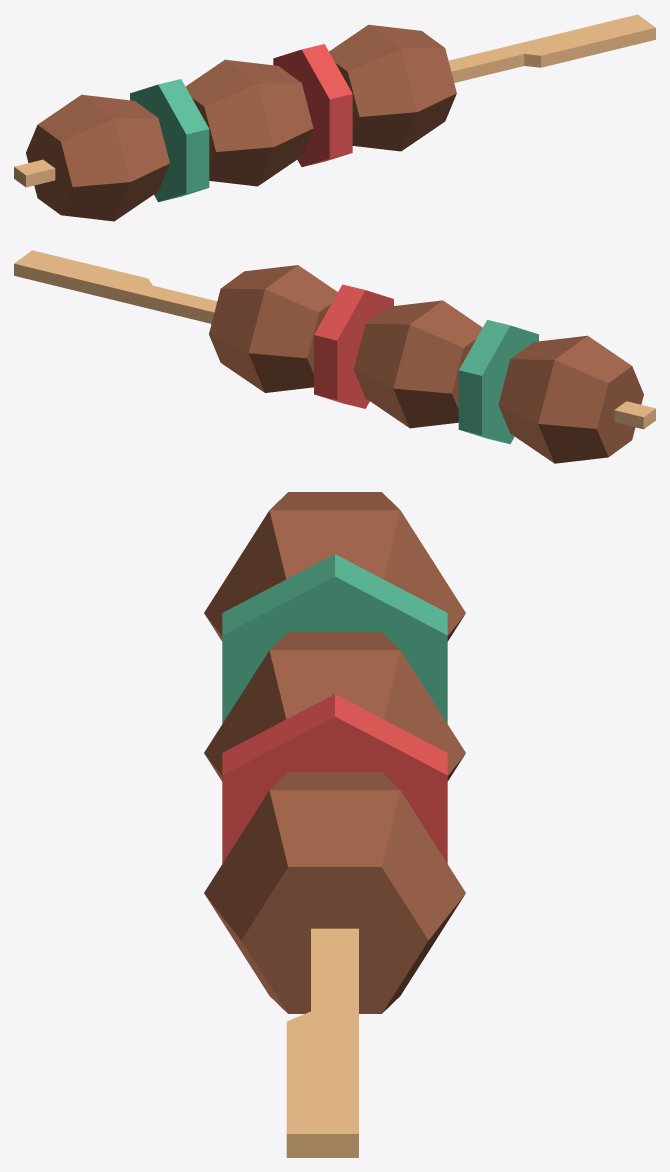
File: skewerVegetables.fbx
3 views of the same model, one above another, from view 1: azimuth 30°, elevation 25°; view 2: azimuth 150°, elevation 25°; view 3: azimuth 270°, elevation 25° (orthographic). The views are drawn at different scales.
Parts seen in each view (by area): view 1: meat (×3), vegetables (×2), skewerVegetables; view 2: meat (×3), vegetables (×2), skewerVegetables; view 3: meat (×3), vegetables (×2), skewerVegetables.
Boxes of the visible parts, bbox=[...] form: meat (×3): bbox=[26, 24, 456, 221]; vegetables (×2): bbox=[130, 44, 352, 202]; skewerVegetables: bbox=[14, 14, 655, 187]; meat (×3): bbox=[209, 265, 643, 463]; vegetables (×2): bbox=[314, 284, 538, 444]; skewerVegetables: bbox=[14, 250, 655, 429]; meat (×3): bbox=[204, 492, 465, 1013]; vegetables (×2): bbox=[222, 554, 447, 863]; skewerVegetables: bbox=[286, 928, 358, 1157].
Size of the model in its own units: 5.97 by 1.08 by 1.09.
